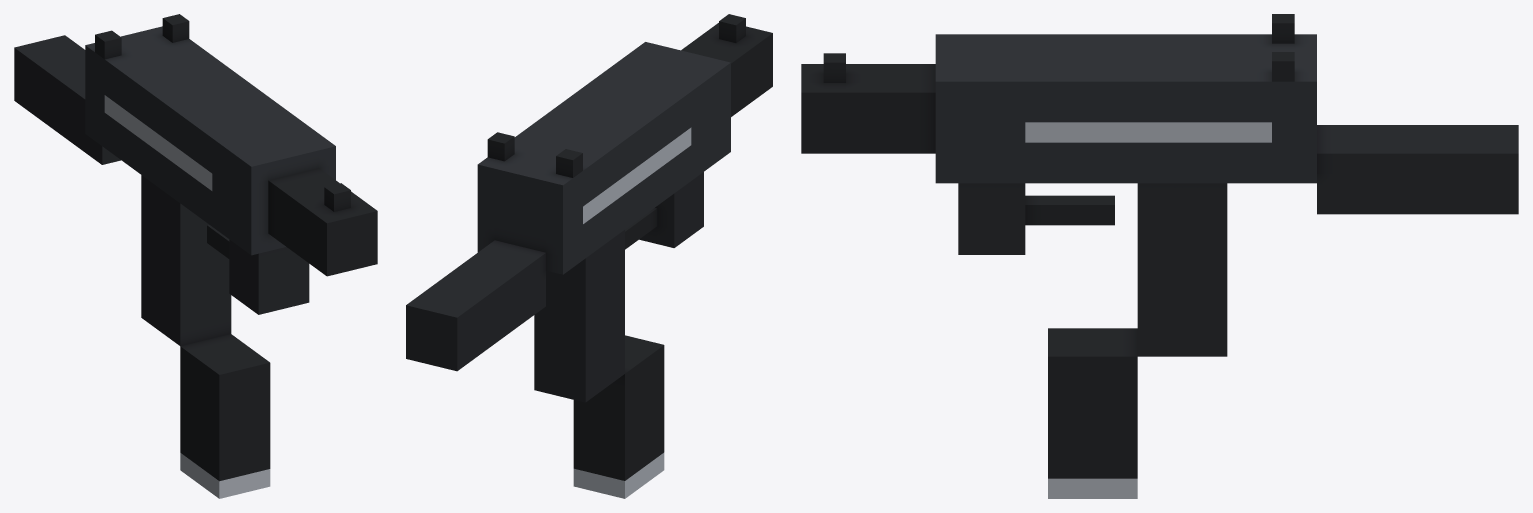
Rendered from zipper_common.glb.
The picture shows the model from 3 angles, left to right: view 1: azimuth 30°, elevation 25°; view 2: azimuth 150°, elevation 25°; view 3: azimuth 270°, elevation 25°; orthographic projection. The views are drawn at different scales.
Visible parts, largest first — view 1: zipper_common_body; view 2: zipper_common_body; view 3: zipper_common_body.
Part boxes in pixels (x1,y1,x2,y2): zipper_common_body: (14, 14, 377, 498); zipper_common_body: (406, 14, 772, 498); zipper_common_body: (801, 14, 1518, 498).
Size of the model in its own units: 0.1953 by 0.8594 by 1.25.
Materials: 1 (1 with a texture image).
